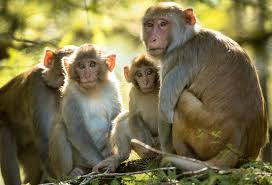monkey: (134, 6, 264, 165), (11, 34, 121, 185), (126, 53, 167, 132)
